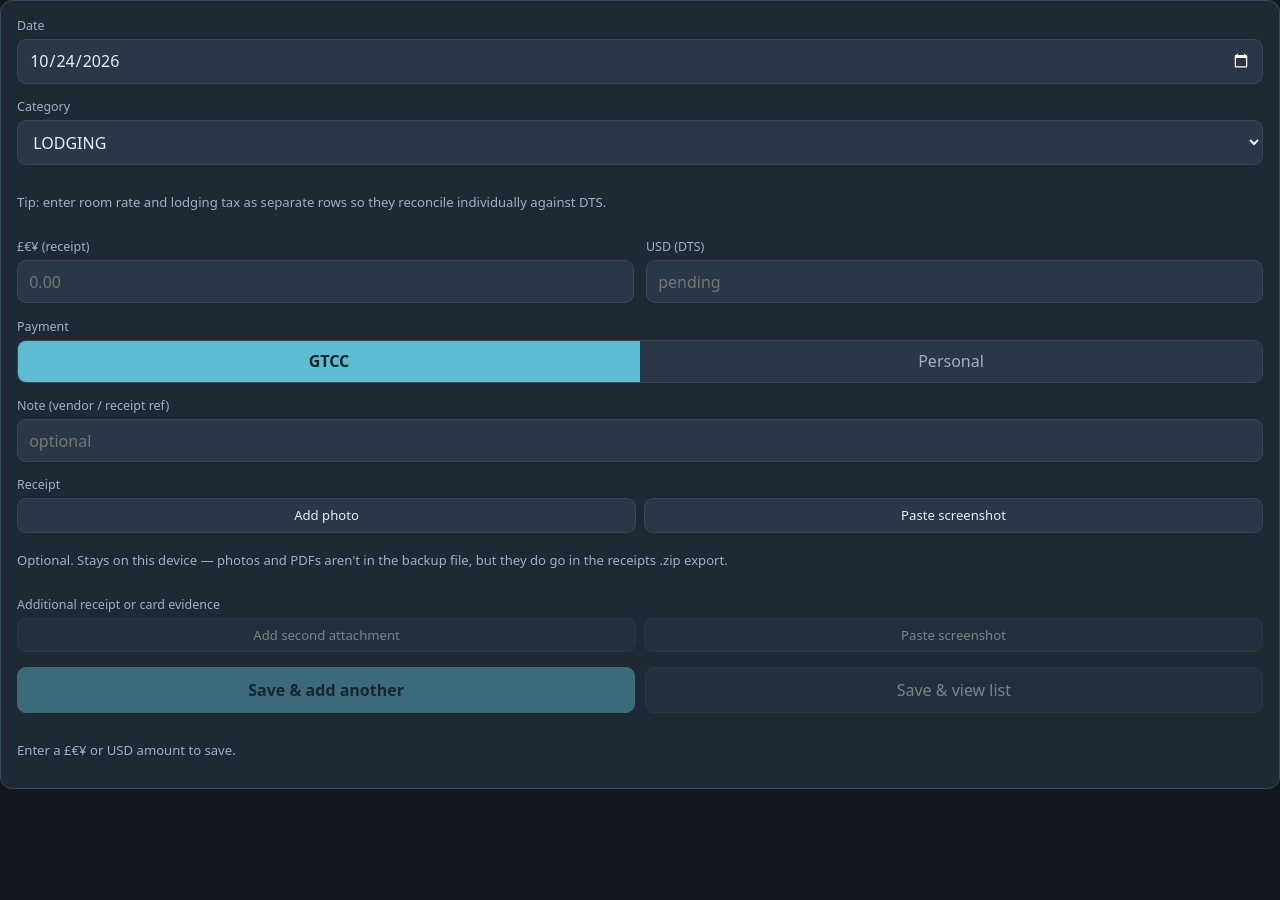
Test case: EntryForm — MILEAGE calculator › offers a manual-entry toggle that switches back to plain foreign-currency/USD fields
The image size is (1280, 900).
Select "MILEAGE" in the dropdown labelled "Category": {"x": 640, "y": 143} x1=17 y1=120 x2=1263 y2=165
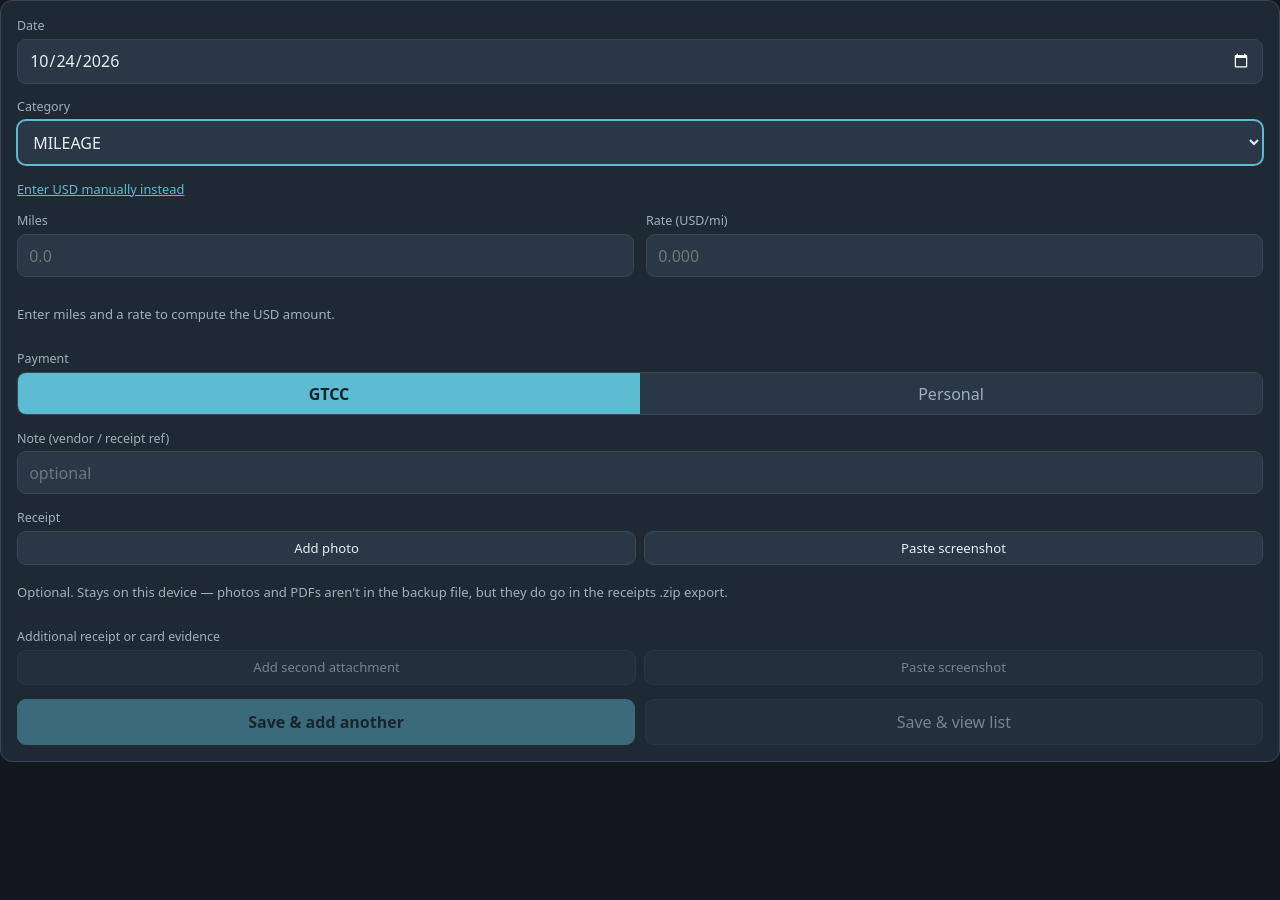
Click the button "Enter USD manually instead": {"x": 101, "y": 189} x1=17 y1=180 x2=184 y2=198
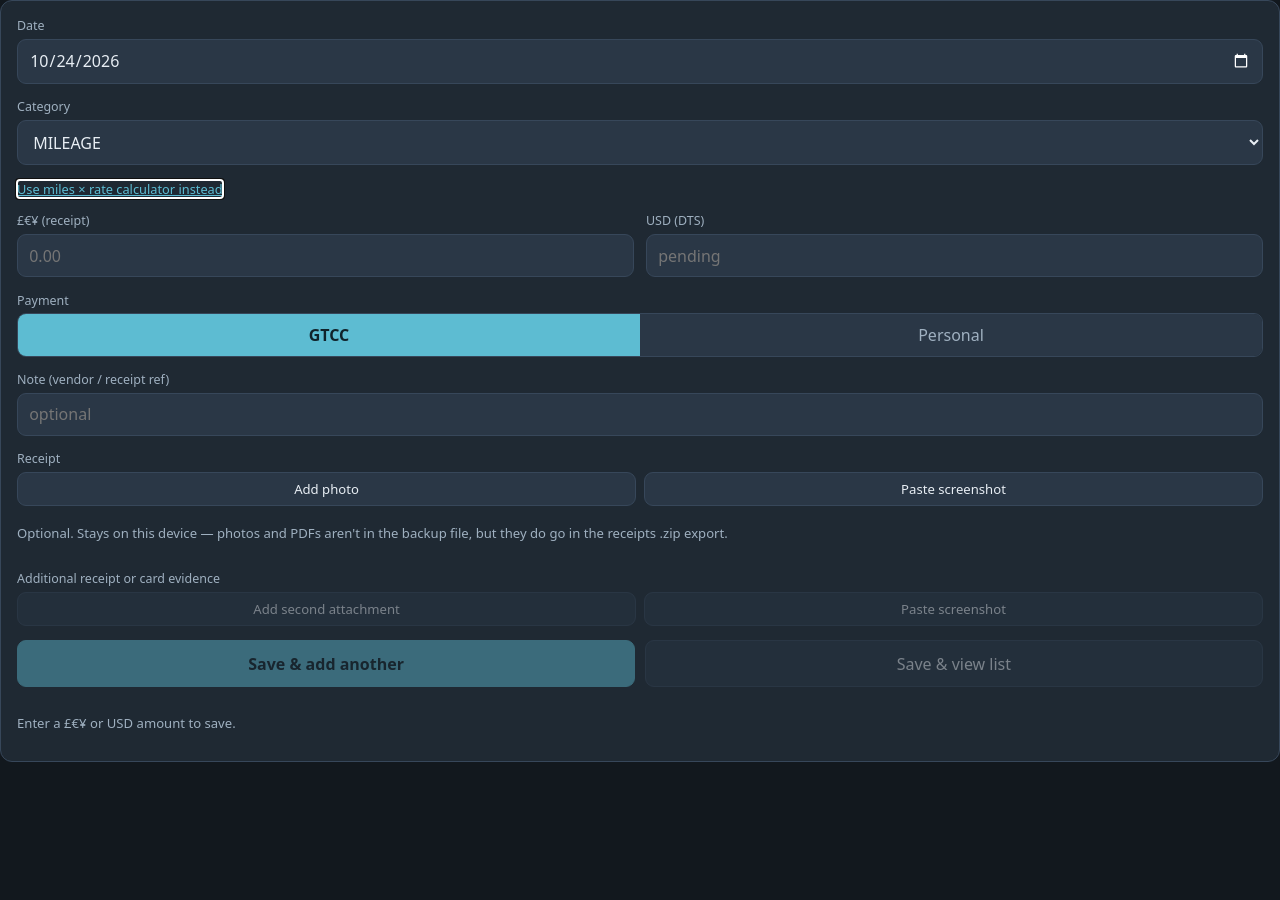
Expected: the number field labelled "£€¥ (receipt)" is shown, x1=17 y1=234 x2=634 y2=277
Result: the button "Use miles × rate calculator instead" is shown at x1=17 y1=180 x2=223 y2=198
